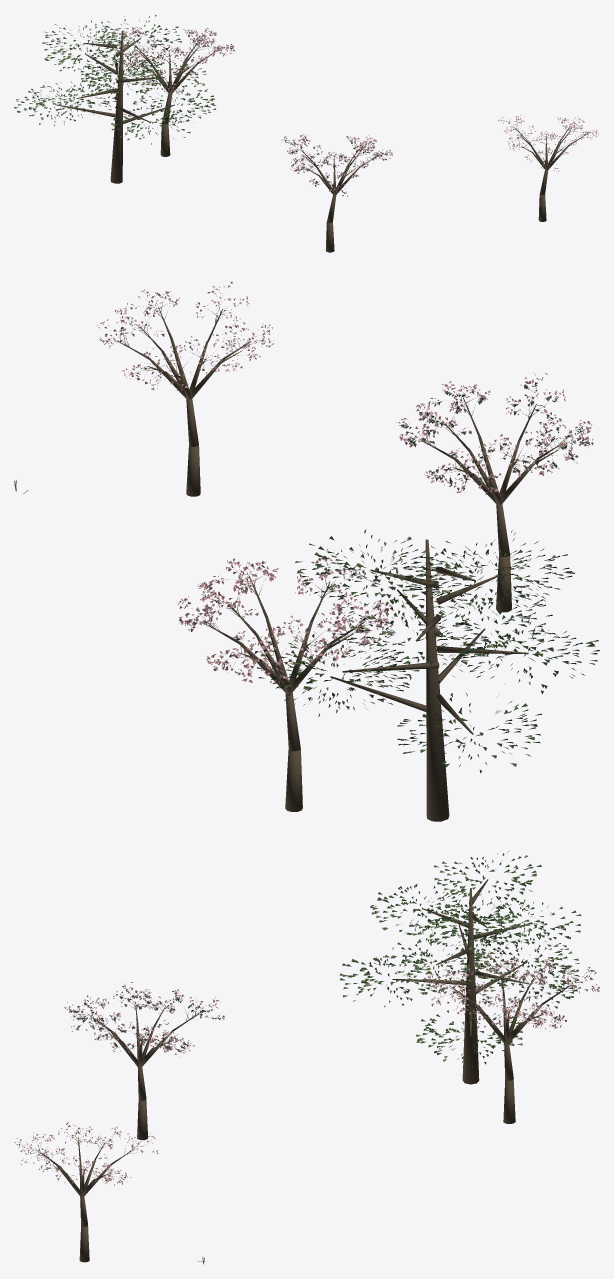
File: longcuian.glb
3 views of the same model, one above another, from view 1: azimuth 30°, elevation 25°; view 2: azimuth 150°, elevation 25°; view 3: azimuth 270°, elevation 25° (orthographic). The views are drawn at different scales.
Visible parts, largest first — view 1: Mobile_longcuian_plants; view 2: Mobile_longcuian_plants; view 3: Mobile_longcuian_plants.
Boxes of the visible parts, x1=… form: Mobile_longcuian_plants: x1=14, y1=14, x2=598, y2=252; Mobile_longcuian_plants: x1=14, y1=281, x2=599, y2=821; Mobile_longcuian_plants: x1=14, y1=850, x2=599, y2=1264.
Bounding box in the file's own units: 32.43 × 11.23 × 30.34.
